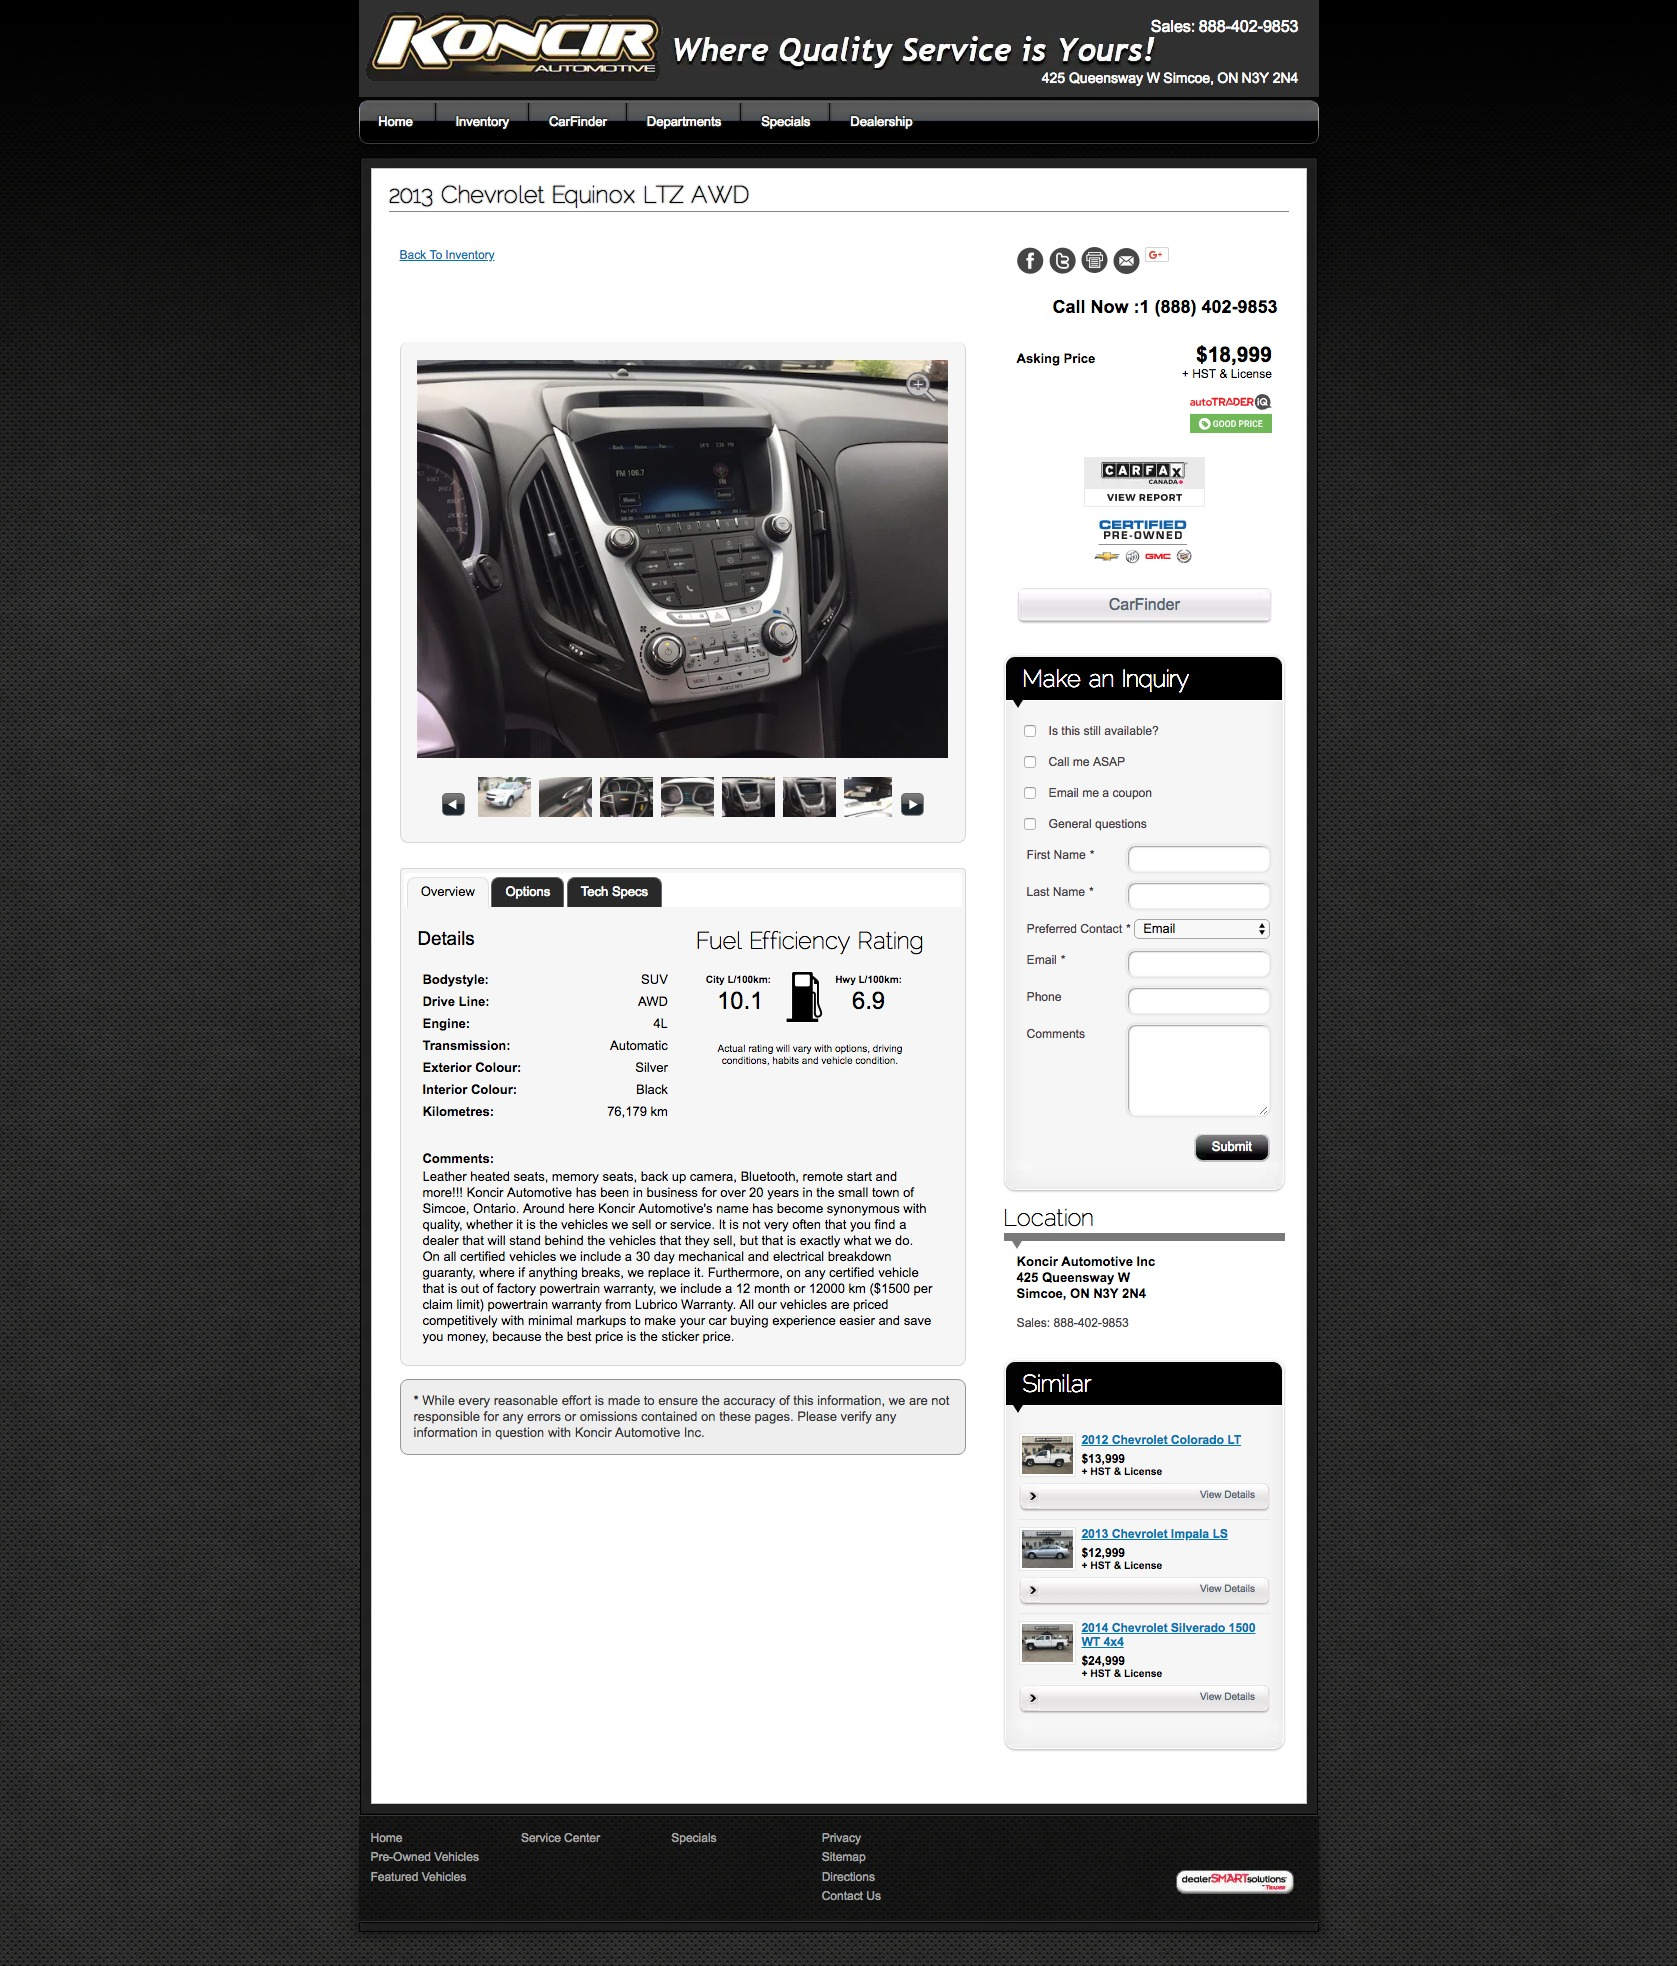car: (908, 798, 918, 810)
